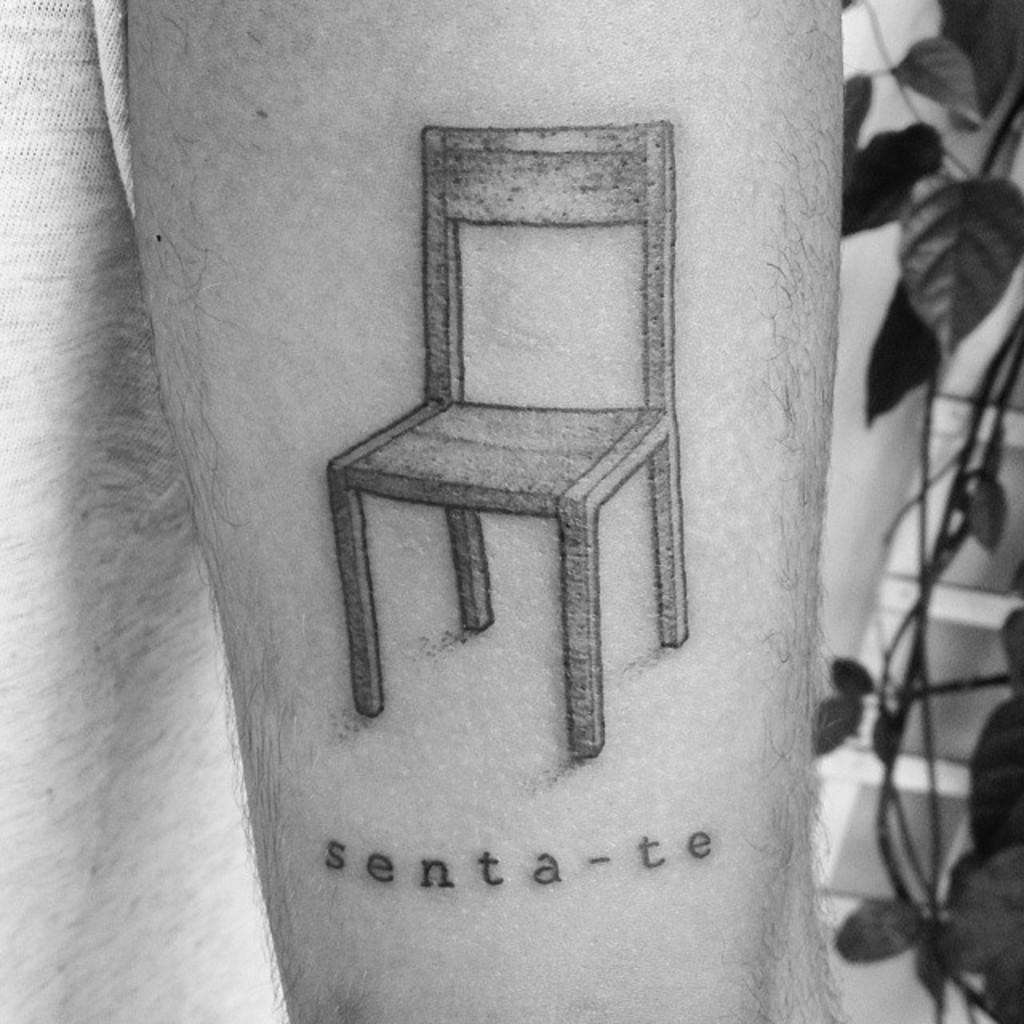Chair: (350, 118, 680, 768)
